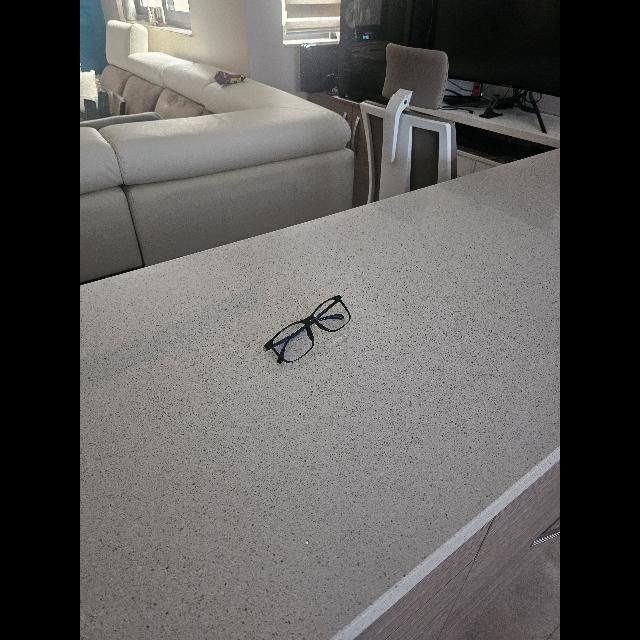glasses: (264, 295, 350, 363)
